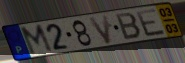2: (46, 22, 73, 52)
8: (72, 19, 93, 47)
B: (114, 12, 143, 41)
E: (134, 7, 168, 38)
M: (19, 23, 55, 57)
V: (87, 13, 112, 46)
